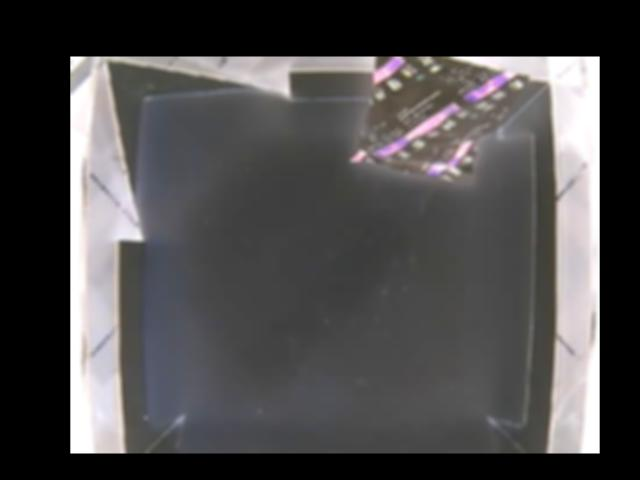Medicine: (349, 57, 531, 188)
